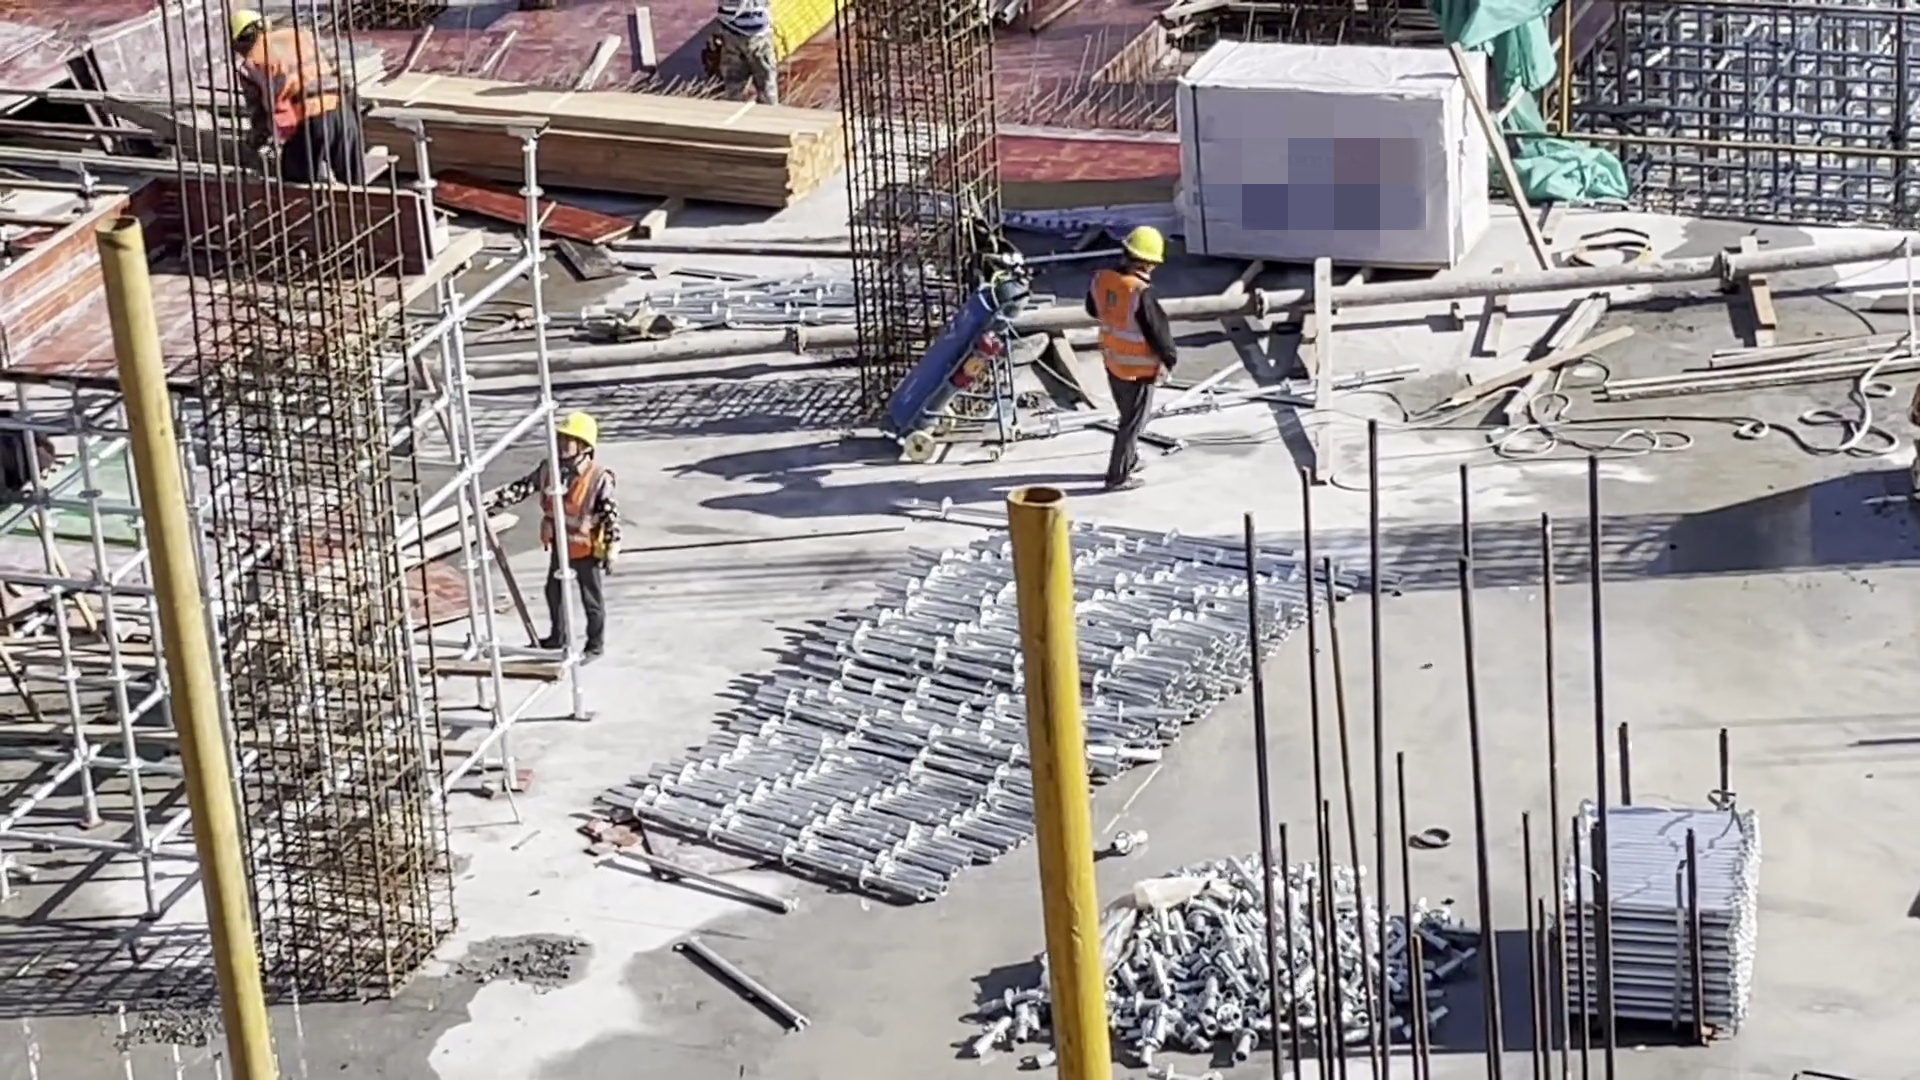helmet: (550, 408, 603, 457), (1121, 219, 1161, 271), (229, 12, 261, 42)
person: (482, 409, 625, 663), (1090, 217, 1179, 497), (223, 16, 366, 179), (711, 4, 785, 100)
scaffold: (599, 509, 1398, 902), (1547, 801, 1755, 1033)
vest: (240, 33, 333, 131), (1092, 264, 1158, 390), (539, 463, 607, 560)
wood: (370, 65, 850, 212)
